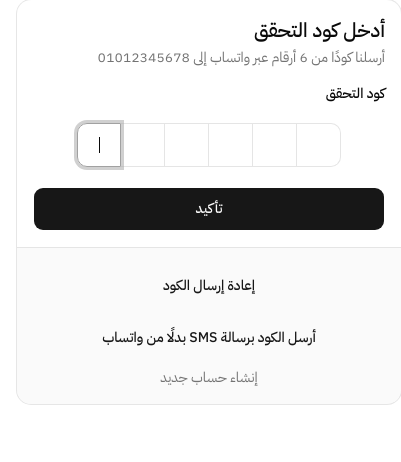
Scenario: OtpVerifyForm › BR-CU07 a 429 waits for the server's retry_after
The width and height of the screenshot is (401, 462).
Click the button "إعادة إرسال الكود": [209, 286] box [152,264,266,308]
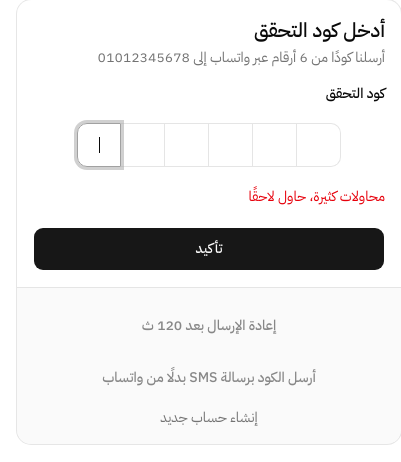
Expected: the button "إعادة الإرسال بعد 120 ث" is shown, [131,304,287,348]
Expected: the message reads "محاولات كثيرة، حاول لاحقًا", [248,186,385,207]
